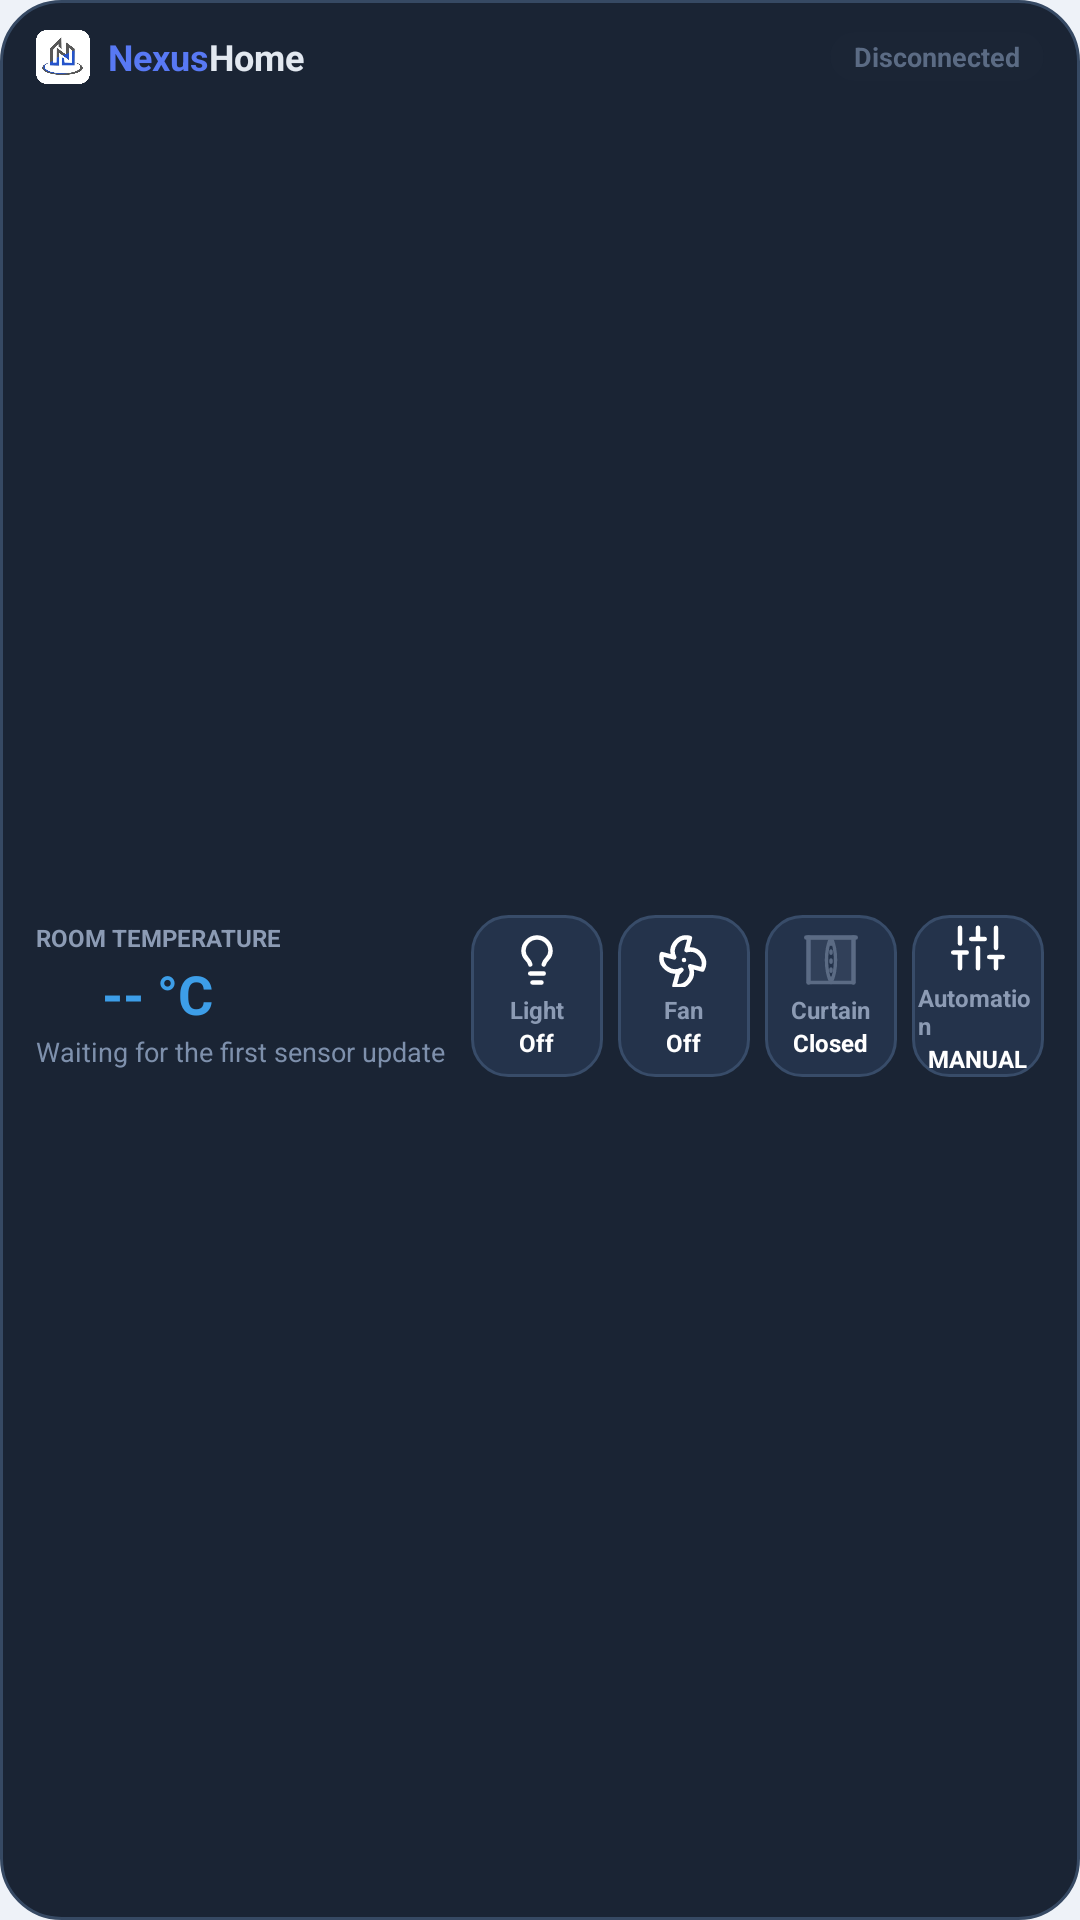

Screen size 1080 × 1920. Icon name, then its box in pixels as Rect(x1, y1, x2, y2):
tile mode: Rect(951, 925, 1005, 971)
